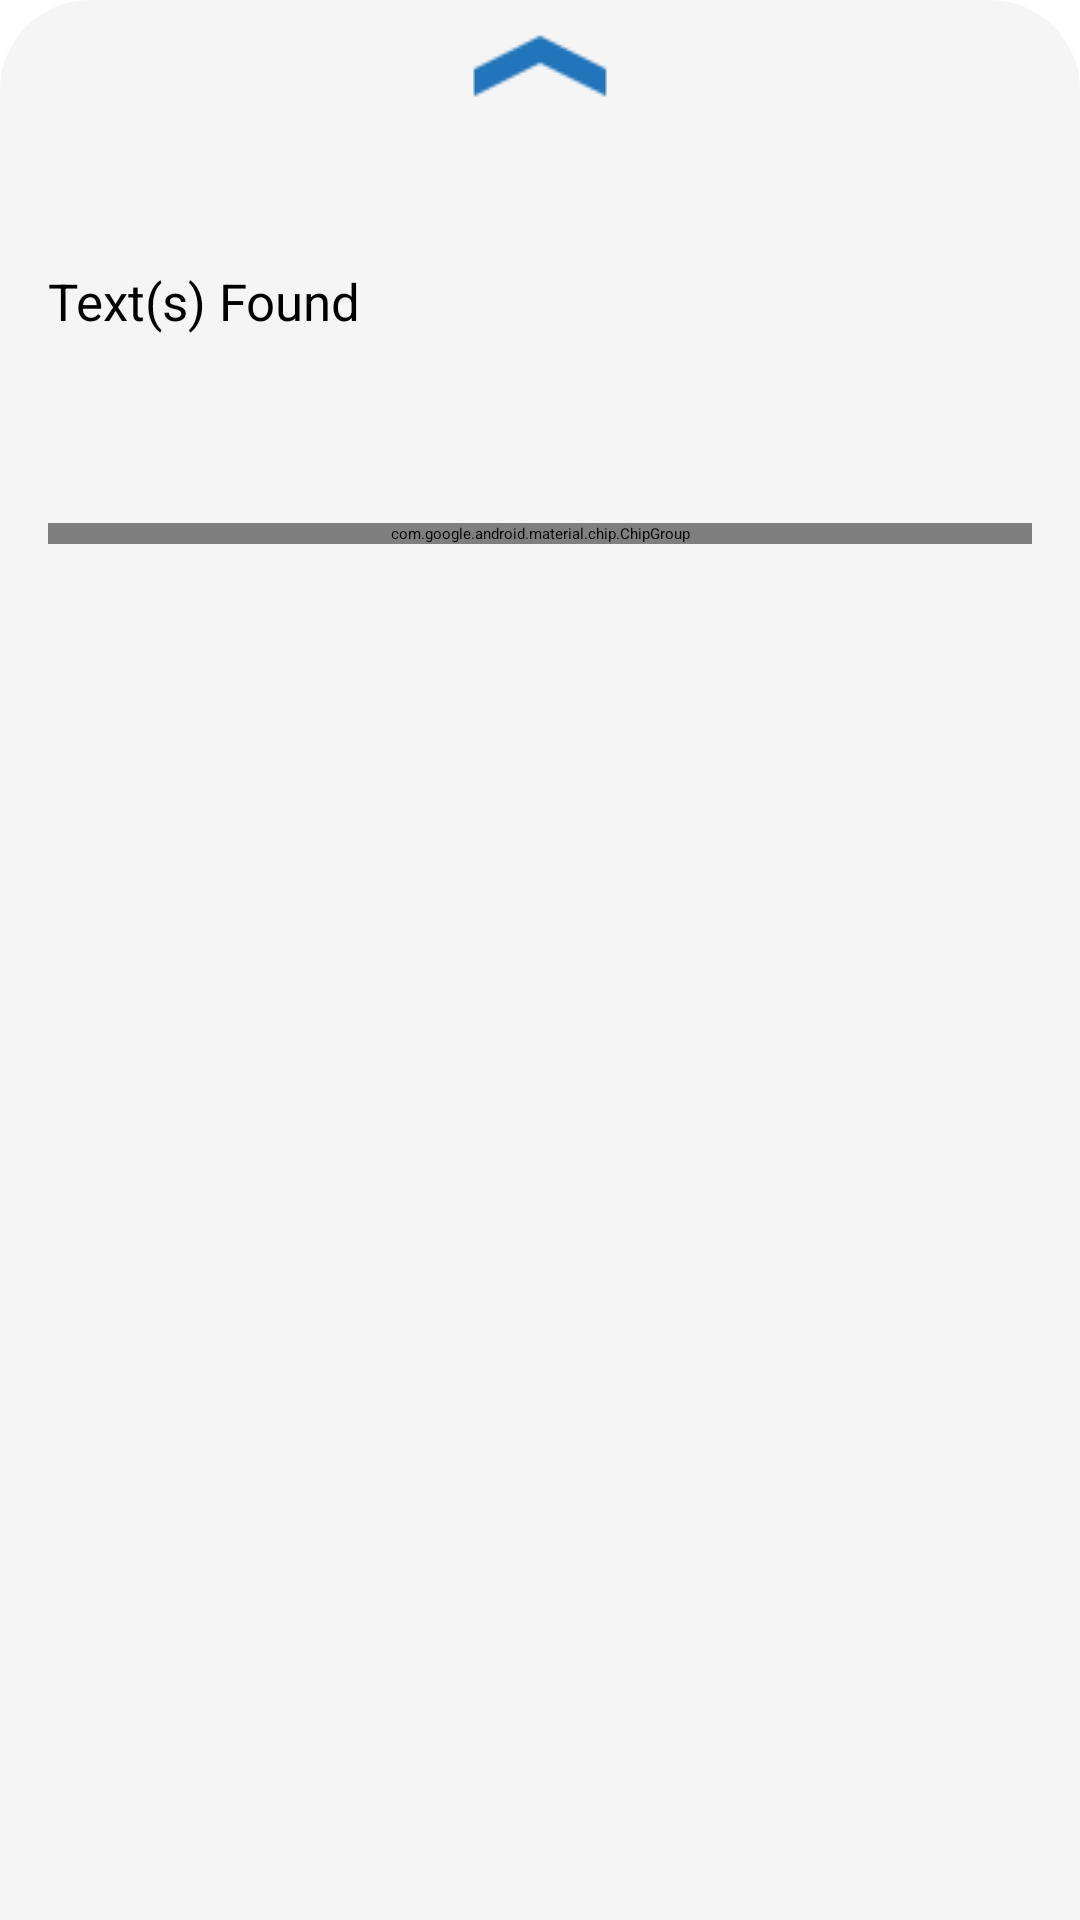

Point at icon controls on the screen. Image size 1080w x 1920h, points as [x,y].
upss: [540,66]
